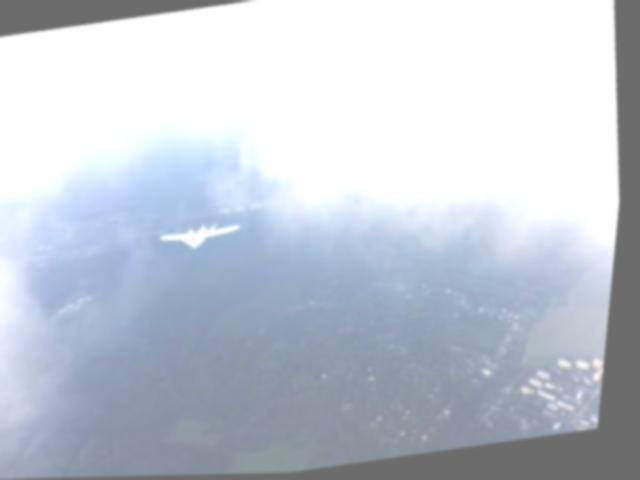uav: (159, 214, 251, 258)
